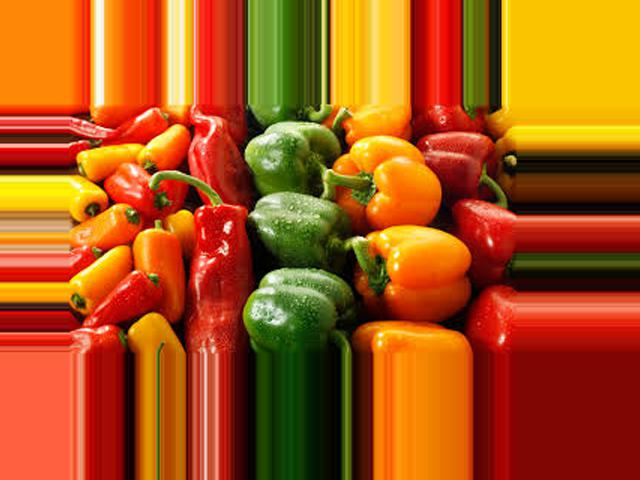bell_pepper: (80, 266, 161, 332)
